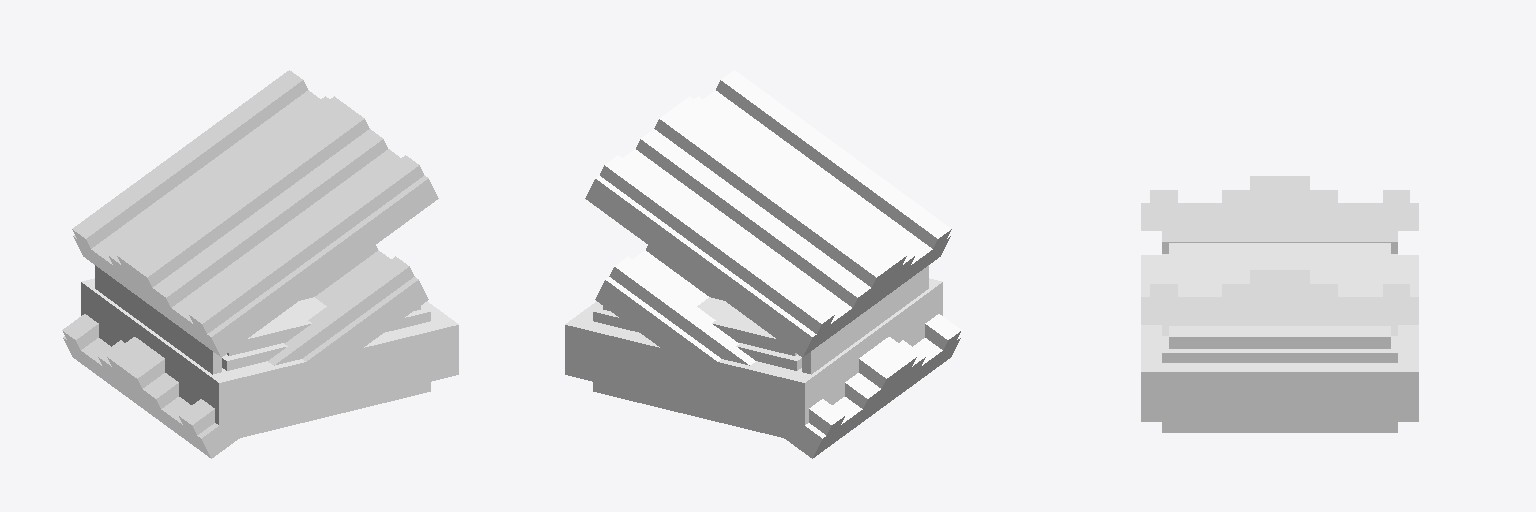
The model's file is paintpress.obj.
The picture shows the model from 3 angles: view 1: azimuth 30°, elevation 25°; view 2: azimuth 150°, elevation 25°; view 3: azimuth 270°, elevation 25°; orthographic projection.
Parts seen in each view (by area): view 1: lid_item, base, lid, painting, canvas; view 2: lid_item, base, lid, painting, canvas; view 3: base, lid_item, painting, lid, canvas.
Part boxes in pixels (x1,y1,x2,y2): lid_item: (72, 70, 438, 357); base: (81, 265, 458, 437); lid: (62, 245, 428, 458); painting: (248, 297, 326, 338); canvas: (227, 306, 420, 355); lid_item: (585, 70, 951, 357); base: (565, 265, 942, 437); lid: (595, 245, 961, 458); painting: (697, 297, 775, 338); canvas: (603, 306, 796, 355); base: (1141, 242, 1418, 432); lid_item: (1141, 176, 1418, 241); painting: (1169, 243, 1390, 336); lid: (1141, 270, 1418, 335); canvas: (1169, 337, 1390, 348).
Bounding box in the file's own units: 1.12 × 1 × 1.